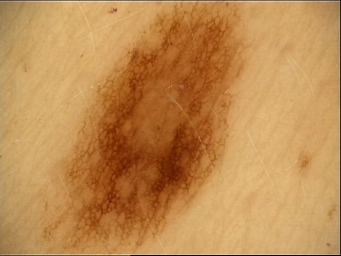melanoma: (48, 6, 244, 251)
